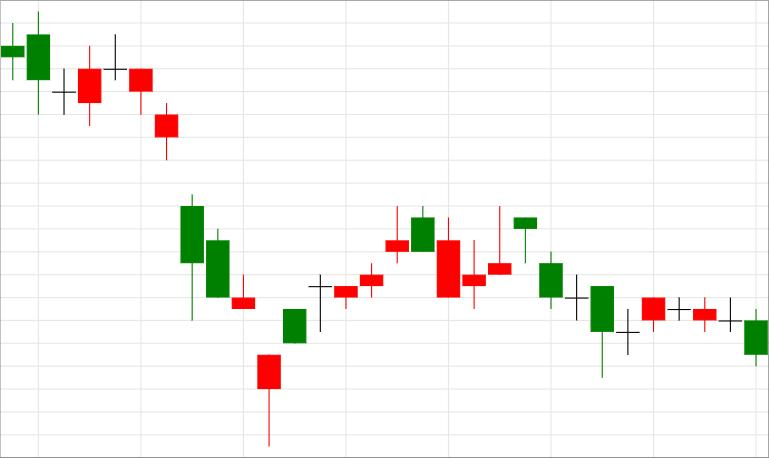hammer_rise: (103, 34, 281, 446)
